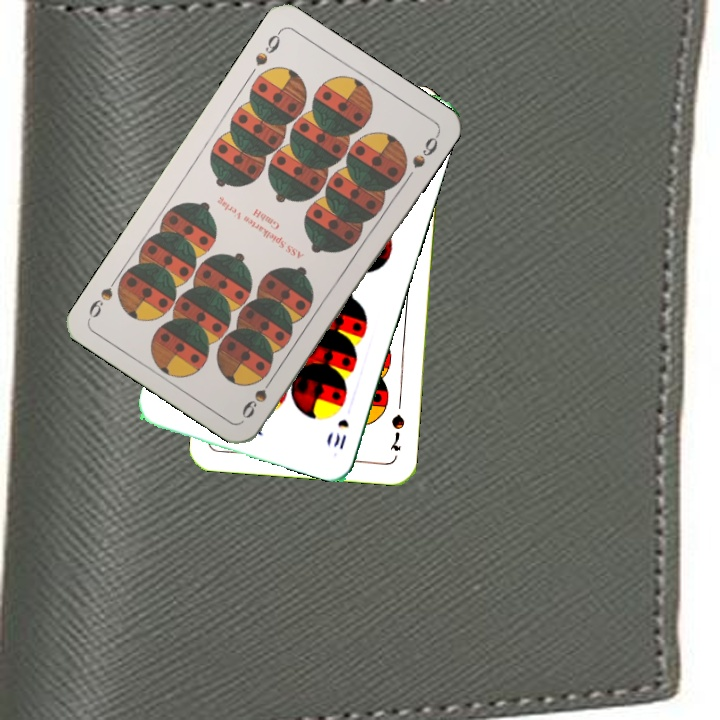S10: (329, 415, 352, 452)
S7: (385, 410, 407, 453)
S9: (237, 370, 278, 422), (251, 26, 284, 68)
